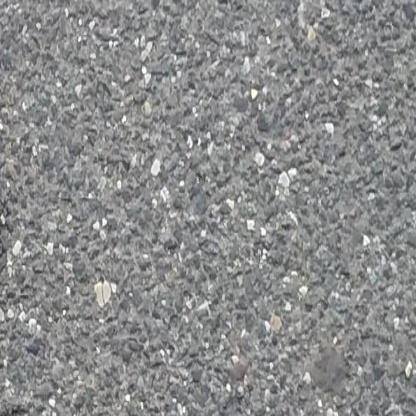Cracks: (0, 202, 6, 338)
